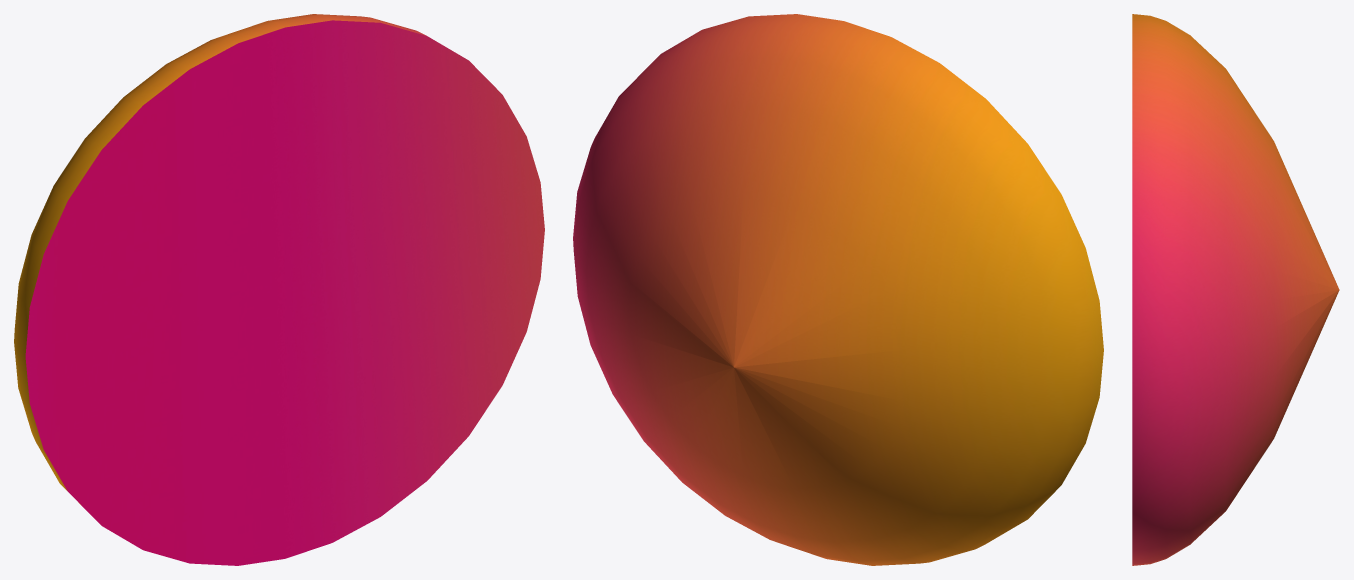
The model's file is solido.fbx.
3 renders of one model, left to right at view 1: azimuth 30°, elevation 25°; view 2: azimuth 150°, elevation 25°; view 3: azimuth 270°, elevation 25°, orthographic. The views are drawn at different scales.
Parts seen in each view (by area): view 1: Solido_y_4_x_:brep_1; view 2: Solido_y_4_x_:brep_1; view 3: Solido_y_4_x_:brep_1.
Part boxes in pixels (x1,y1,x2,y2): Solido_y_4_x_:brep_1: [14, 14, 544, 565]; Solido_y_4_x_:brep_1: [573, 14, 1103, 565]; Solido_y_4_x_:brep_1: [1132, 14, 1339, 565].
Size of the model in its own units: 40.41 by 39.51 by 14.85.
